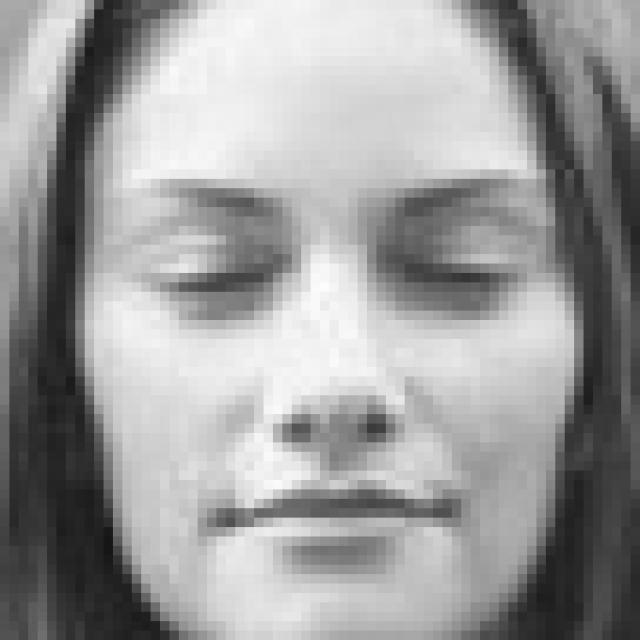real: (70, 0, 584, 640), (124, 220, 530, 328)
